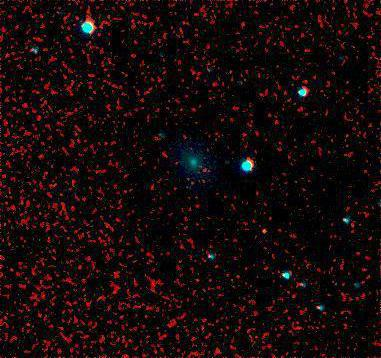star: (252, 217, 282, 247)
